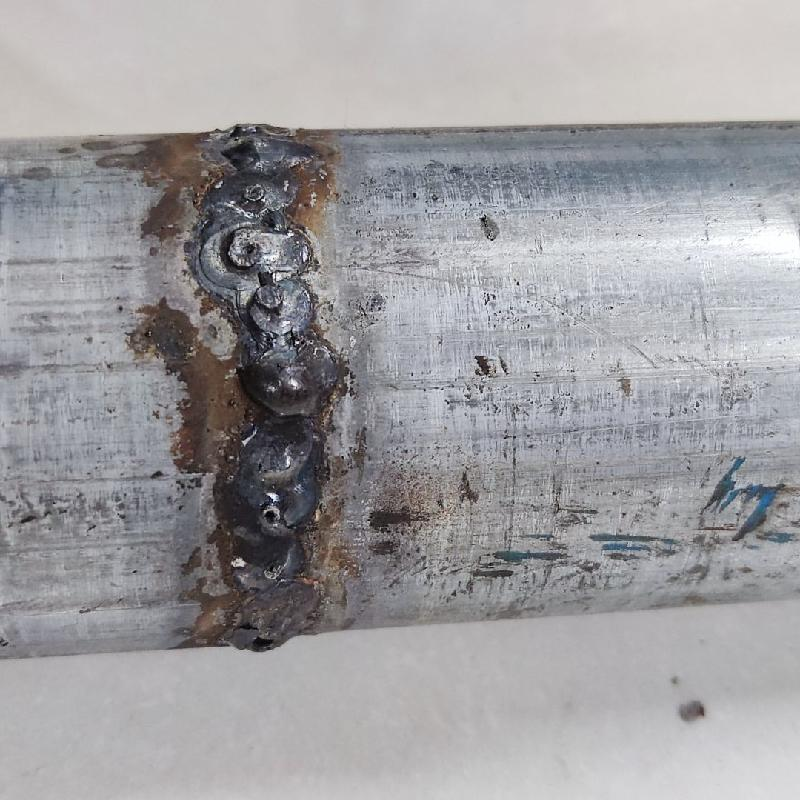Not_fully_soldered: (208, 583, 343, 635)
Surface_pores: (229, 229, 272, 270), (248, 636, 288, 660)
Weld: (244, 352, 325, 424)
wrong_size: (193, 116, 340, 582)
